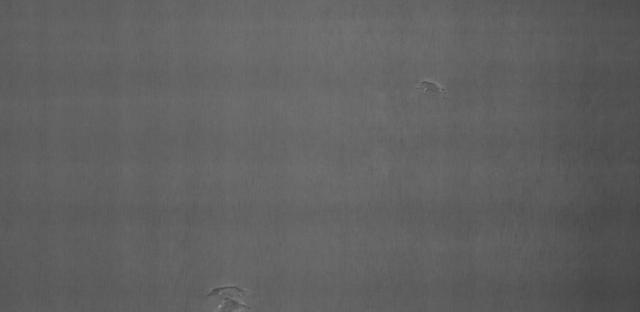rolled_pit: (194, 274, 254, 312), (407, 75, 452, 99)
